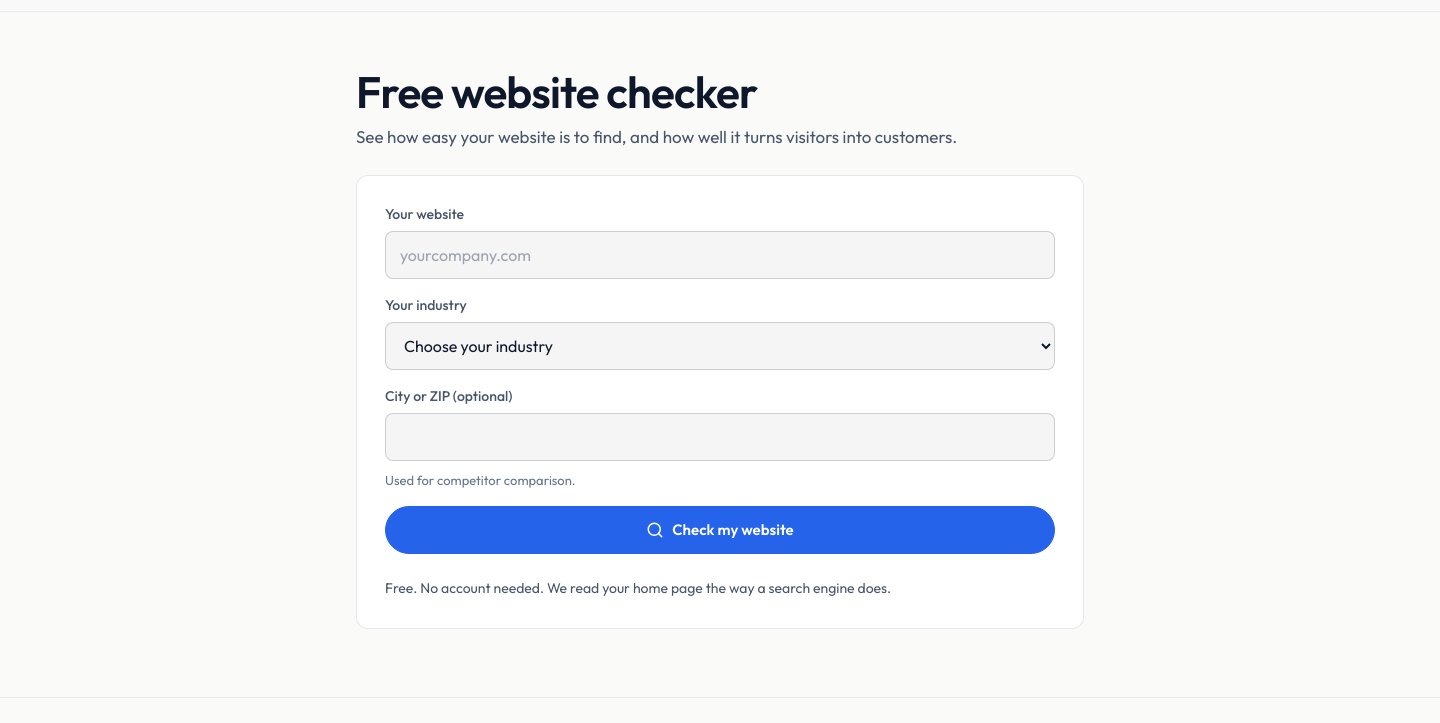
Test case: WebsiteChecker page › start and grades › shows the cached line and re-checks with force
Type "example.com" into the field labelled "Your website" at (720,255), box [385,231,1055,279]
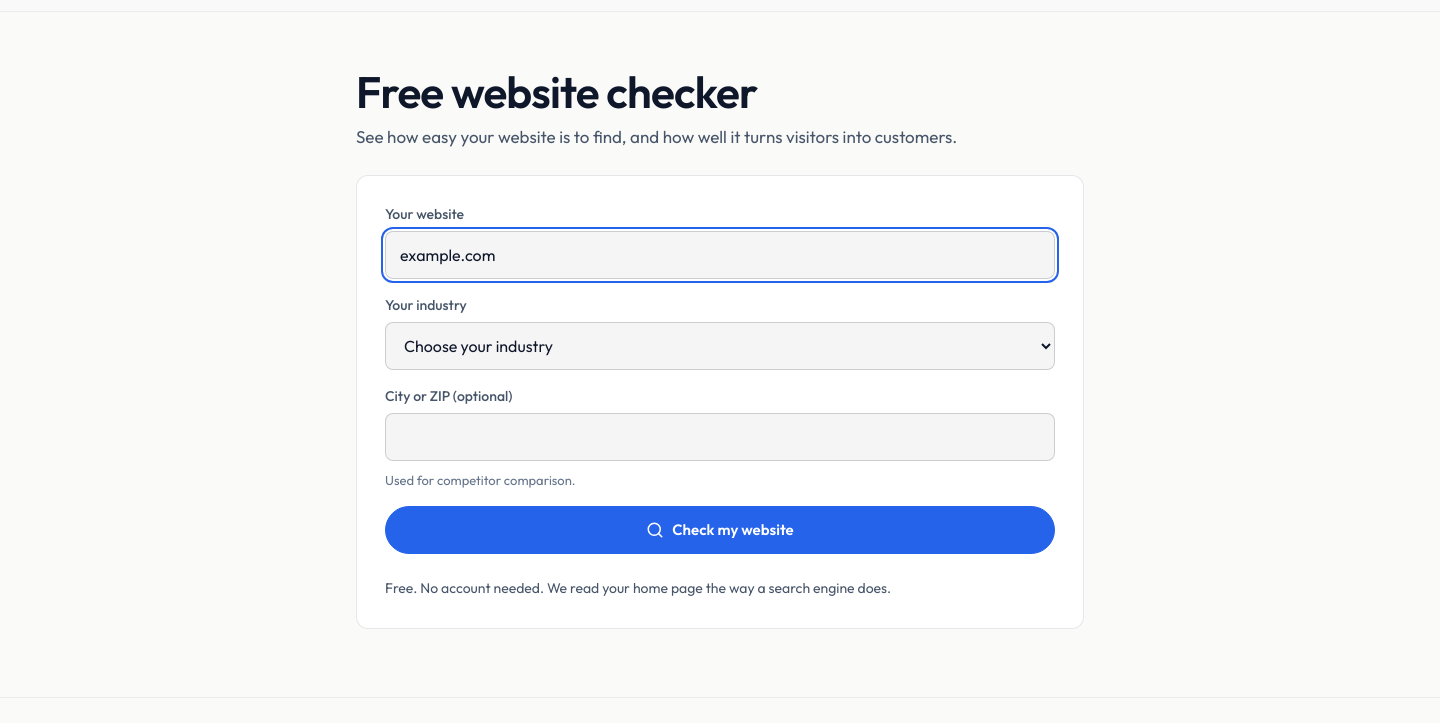
Select "Home services (flooring, plumbing, HVAC, roofing, landscaping, cleaning)" in the dropdown labelled "Your industry" at (720,346), box [385,322,1055,370]
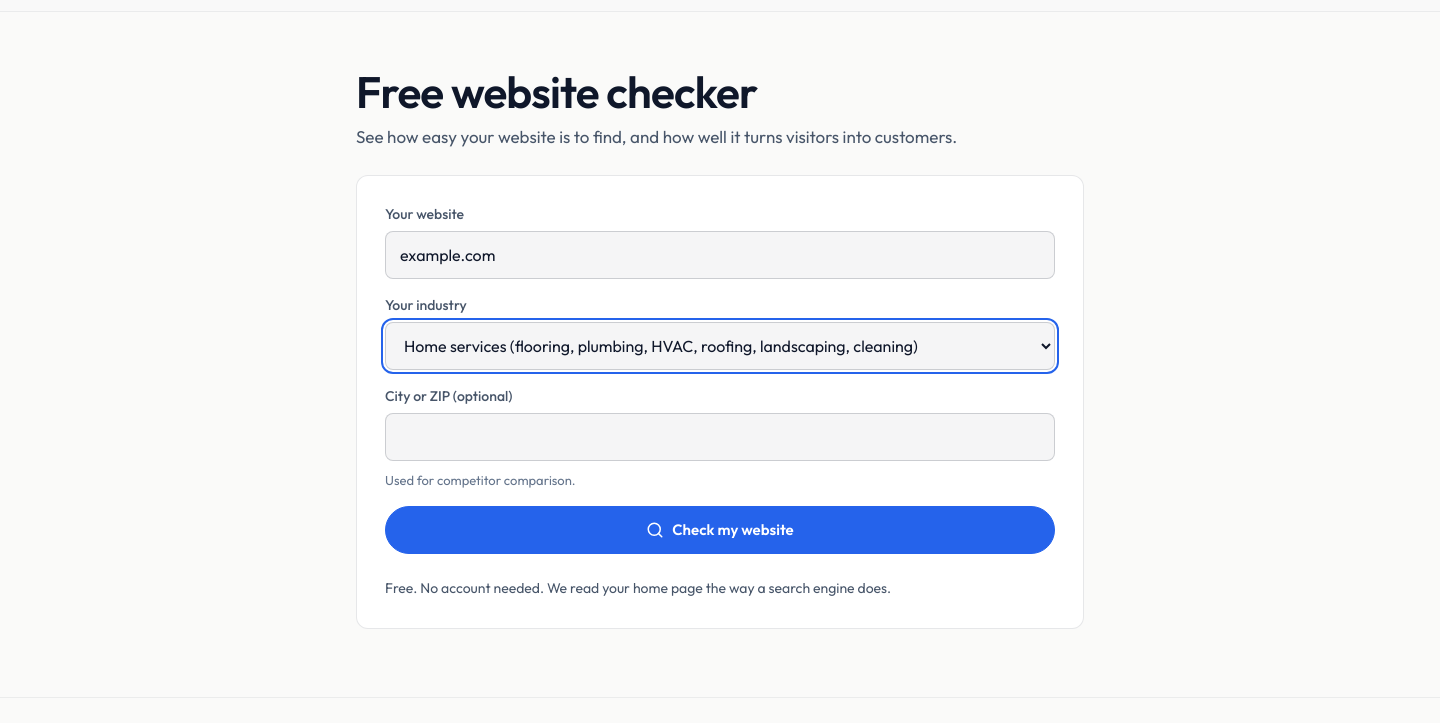
Click the button "Check my website" at (720,530), box [385,506,1055,554]
(page scrolled)
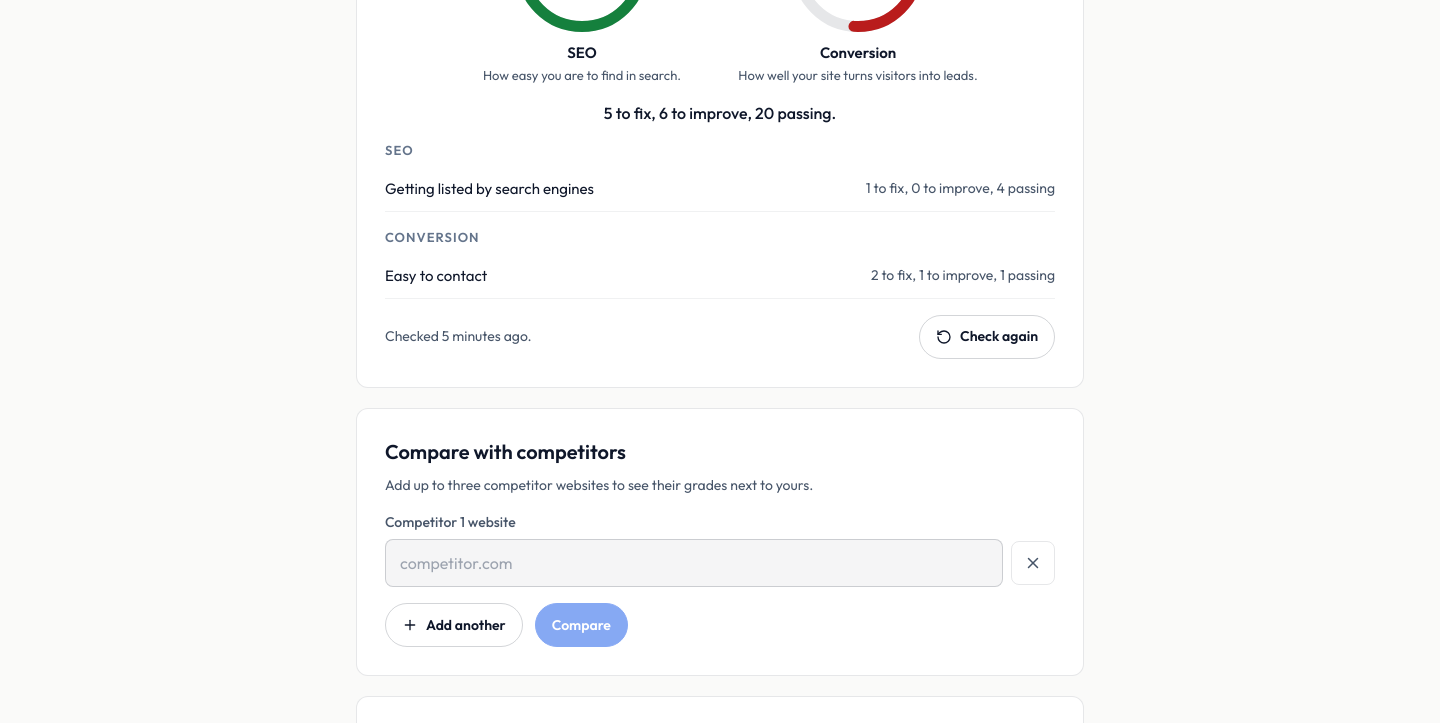
Expected: the text "Checked 5 minutes ago." is shown, [385,326,532,347]
Click the button "Check again" at (987,337), box [919,315,1055,359]
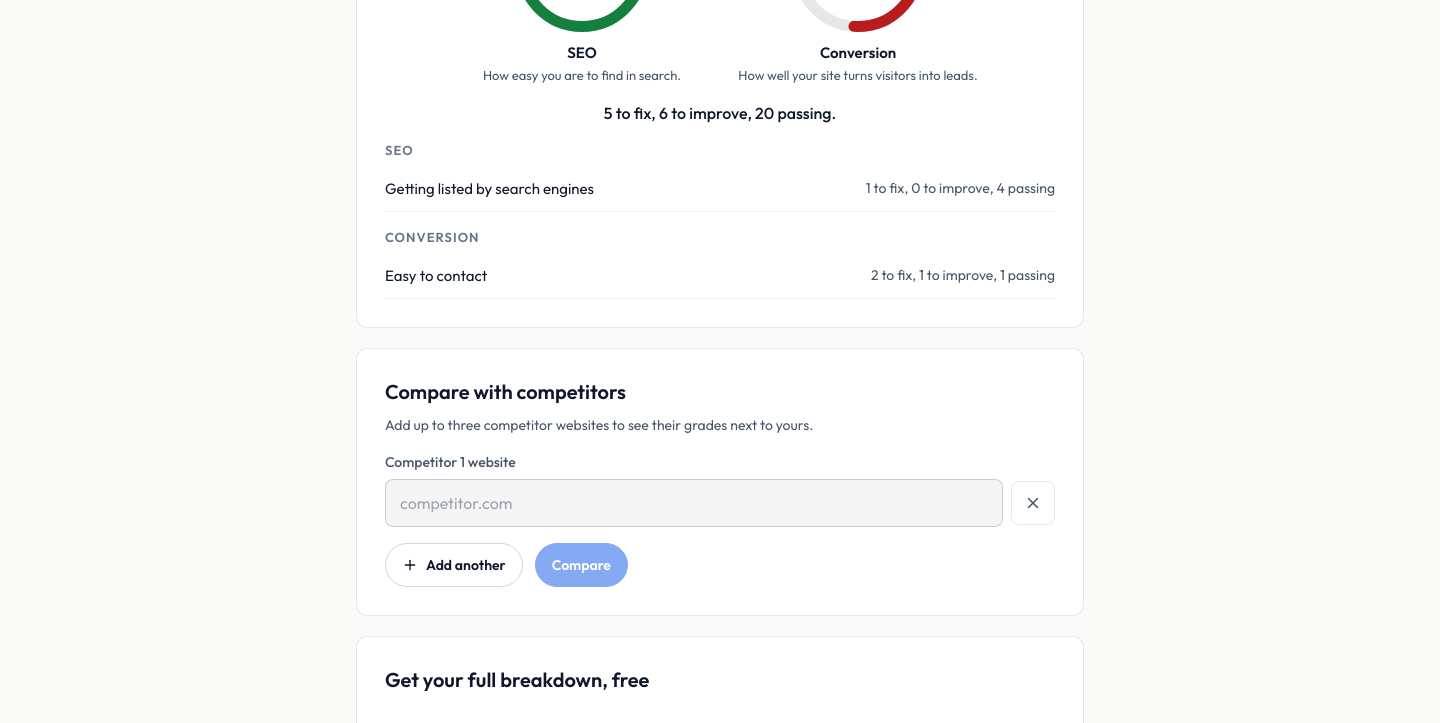
Expected: the text "Checked " is gone
